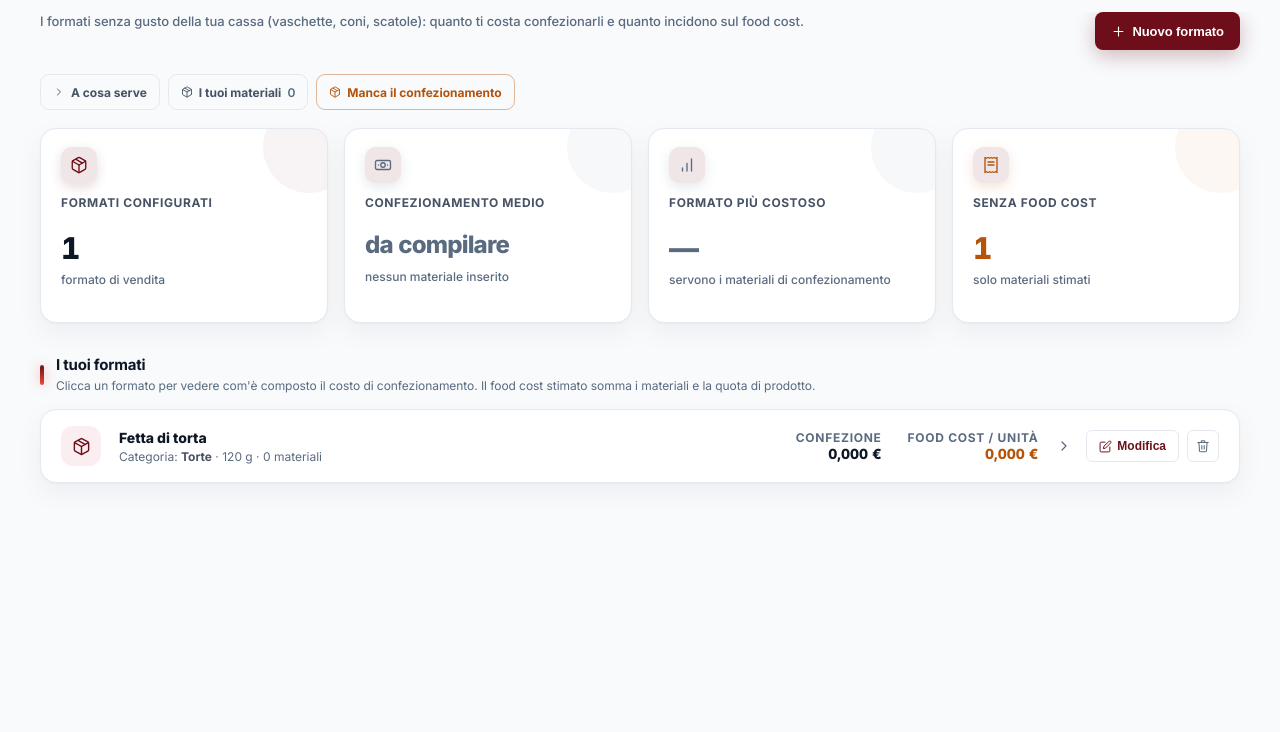
Il margine si mostra solo se il food cost si sa › e al posto del numero dice perché non ce n'è uno
The width and height of the screenshot is (1280, 732).
What coordinates should you click on to do the following:
click the button with aria-label "Fetta di torta: apri il dettaglio del costo"
I would click on:
 (81, 446)
Its box is [61,426,1072,466].
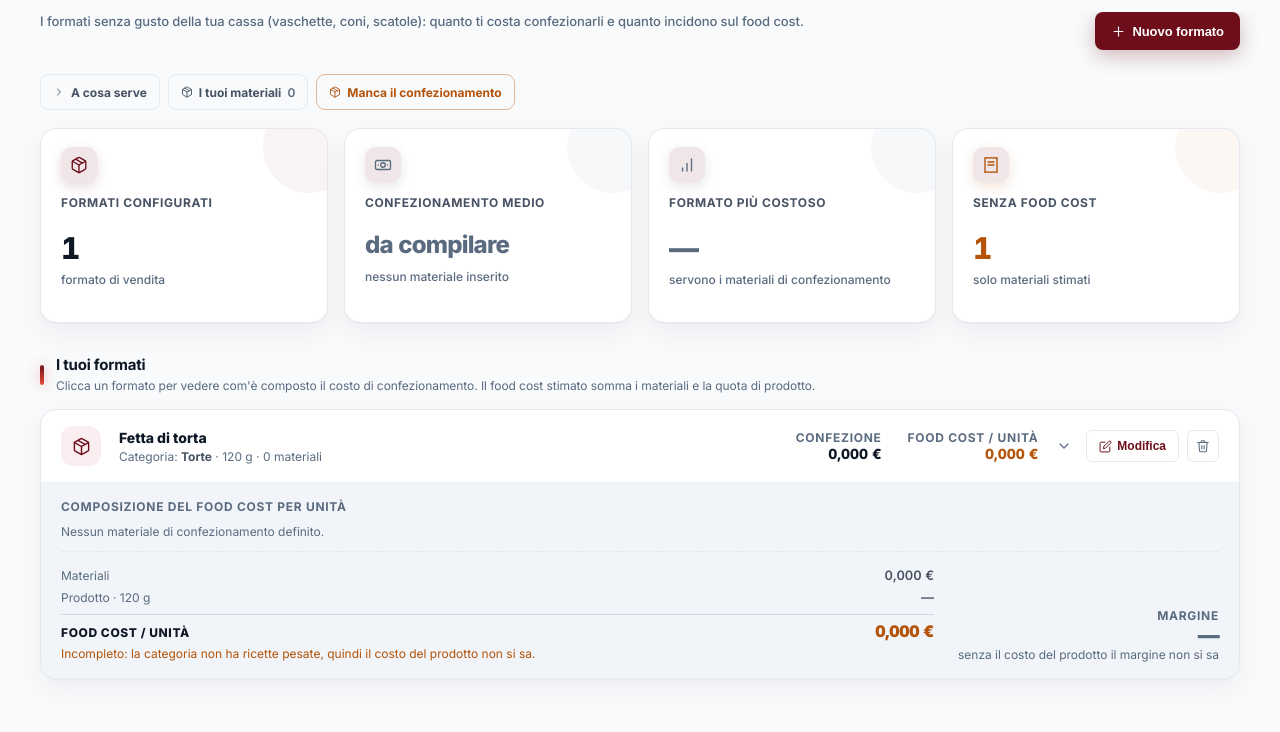
Now the text "senza il costo del prodotto il margine non si sa" is shown, box [958,648,1219,662]
